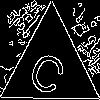C: (25, 41, 73, 99)
